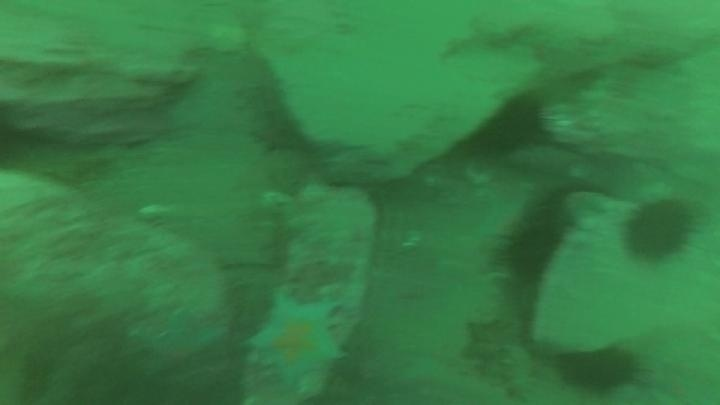echinus: (620, 195, 698, 265), (557, 343, 643, 396), (479, 91, 549, 156), (499, 219, 562, 284)
holothurian: (497, 340, 537, 405)
starfish: (243, 288, 347, 392), (131, 305, 228, 383), (459, 316, 513, 371), (249, 115, 301, 157)
